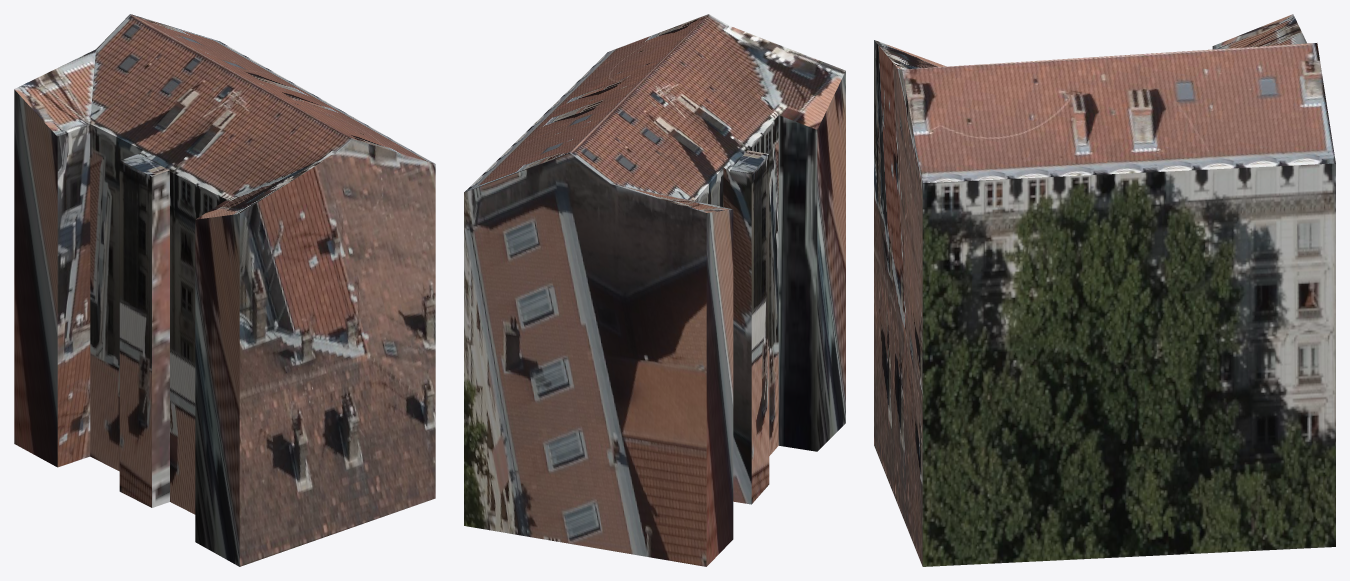
3 views of the same model, side by side, from view 1: azimuth 30°, elevation 25°; view 2: azimuth 150°, elevation 25°; view 3: azimuth 270°, elevation 25° (orthographic). The views are drawn at different scales.
Parts seen in each view (by area): view 1: Z_UP; view 2: Z_UP; view 3: Z_UP.
Part boxes in pixels (x1,y1,x2,y2): Z_UP: (14,14,435,566); Z_UP: (464,14,845,566); Z_UP: (874,14,1335,566).
Bounding box in the file's own units: 18.8 × 27.01 × 25.17.
Materials: 2 (1 with a texture image).
